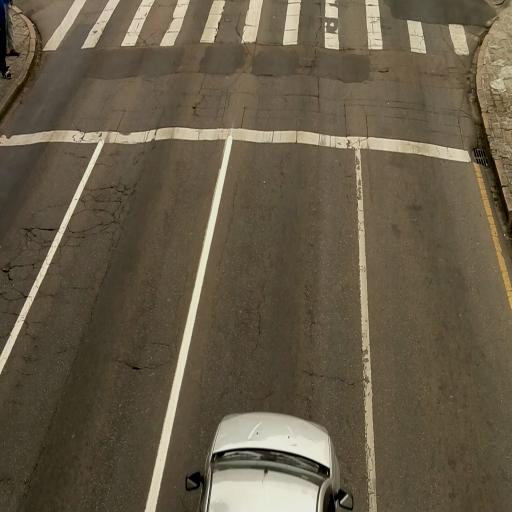car: (192, 412, 355, 510)
